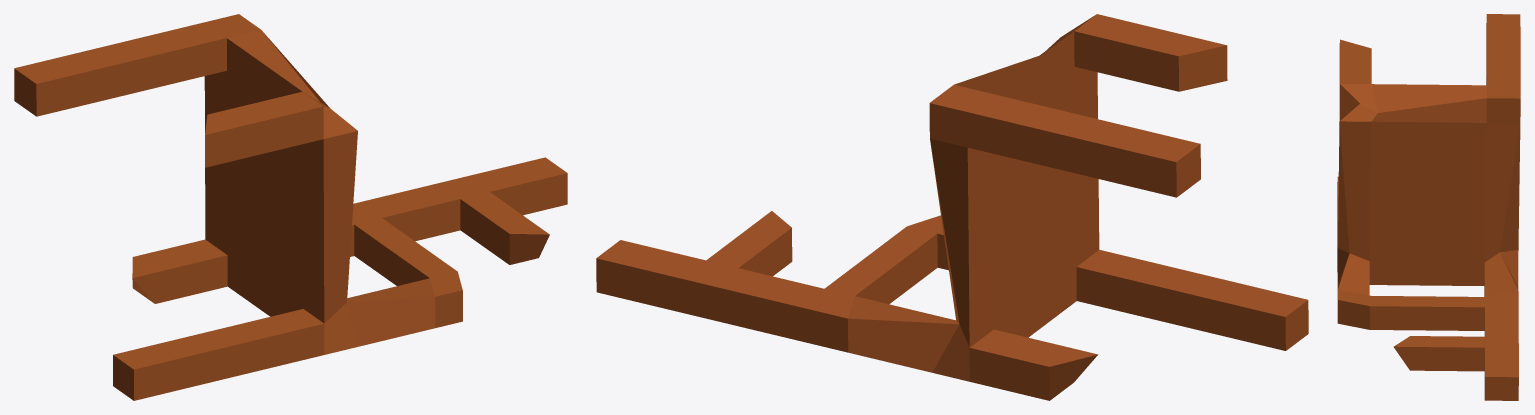
Rendered from BrokenWoodenChair.glb.
3 views of the same model, side by side, from view 1: azimuth 30°, elevation 25°; view 2: azimuth 150°, elevation 25°; view 3: azimuth 270°, elevation 25° (orthographic). The views are drawn at different scales.
Parts seen in each view (by area): view 1: BrokenChair; view 2: BrokenChair; view 3: BrokenChair.
Part boxes in pixels (x1,y1,x2,y2): BrokenChair: (14,14,567,400); BrokenChair: (596,14,1308,400); BrokenChair: (1337,14,1520,400).
Size of the model in its own units: 3.48 by 1.57 by 1.37.
